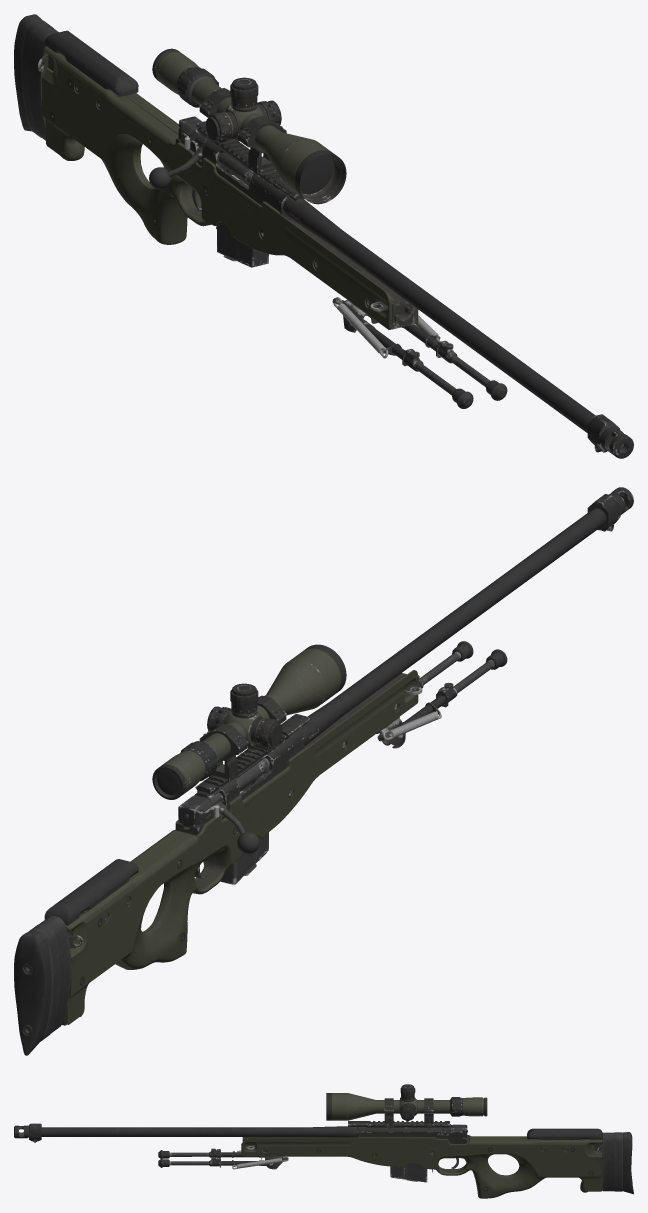
The model's file is awp_counter_strike_2.glb.
3 views of the same model, one above another, from view 1: azimuth 30°, elevation 25°; view 2: azimuth 150°, elevation 25°; view 3: azimuth 270°, elevation 25° (orthographic). The views are drawn at different scales.
Parts seen in each view (by area): view 1: AWP_CS2; view 2: AWP_CS2; view 3: AWP_CS2.
Boxes of the visible parts, bbox=[...] form: AWP_CS2: bbox=[14, 14, 633, 458]; AWP_CS2: bbox=[14, 487, 633, 1055]; AWP_CS2: bbox=[14, 1084, 633, 1198].
Bounding box in the file's own units: 0.113 × 0.2666 × 1.36.
Materials: 1 (1 with a texture image).
